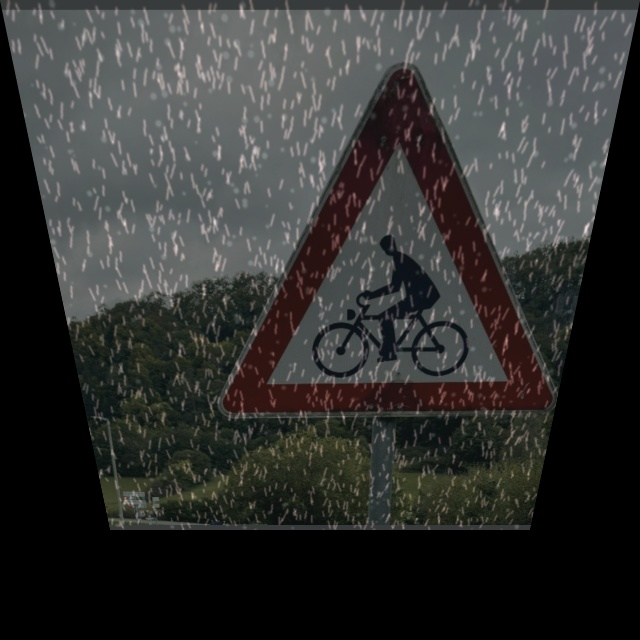Cycle_Crossing: (203, 57, 612, 419)
